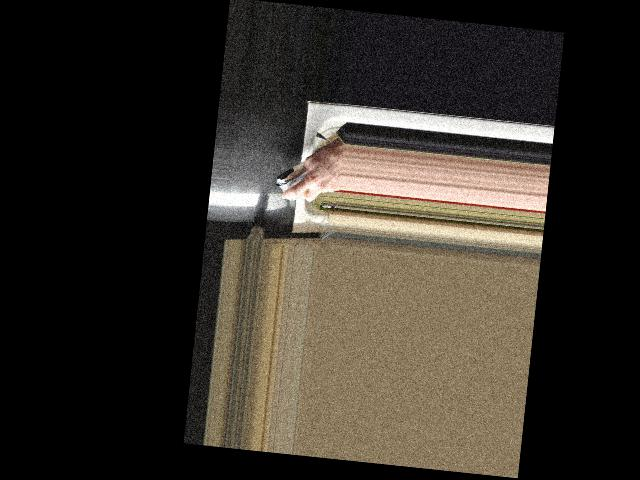cheese: (272, 149, 340, 202)
